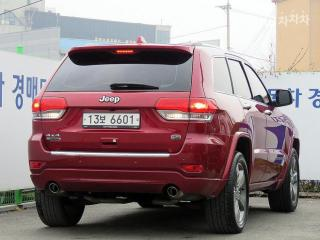0: (122, 114, 129, 125)
1: (87, 114, 94, 125), (129, 114, 135, 125)
3: (94, 113, 100, 125)
6: (110, 115, 116, 124), (117, 115, 122, 124)
plate: (80, 107, 143, 132)
보: (99, 114, 107, 124)
